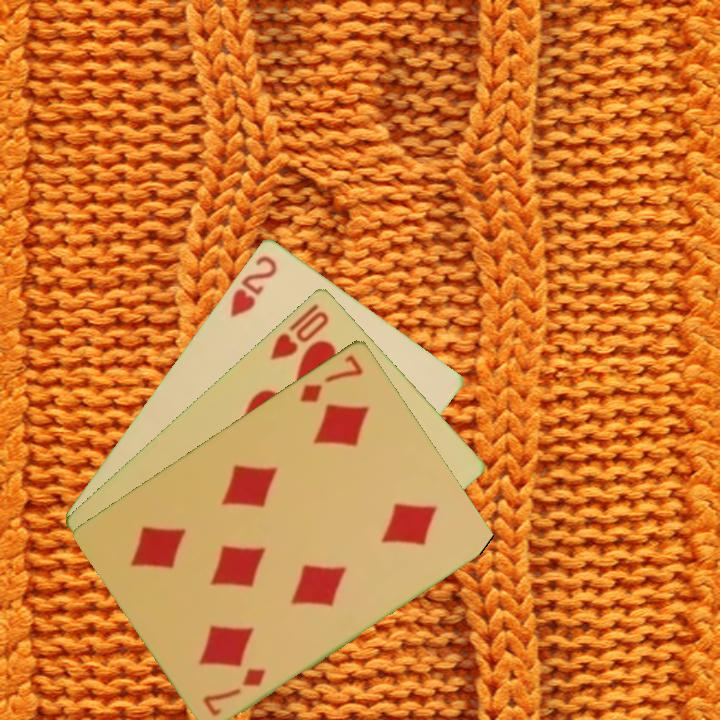10h: (266, 299, 332, 363)
2h: (226, 251, 281, 320)
7d: (296, 350, 366, 405), (199, 664, 269, 719)
